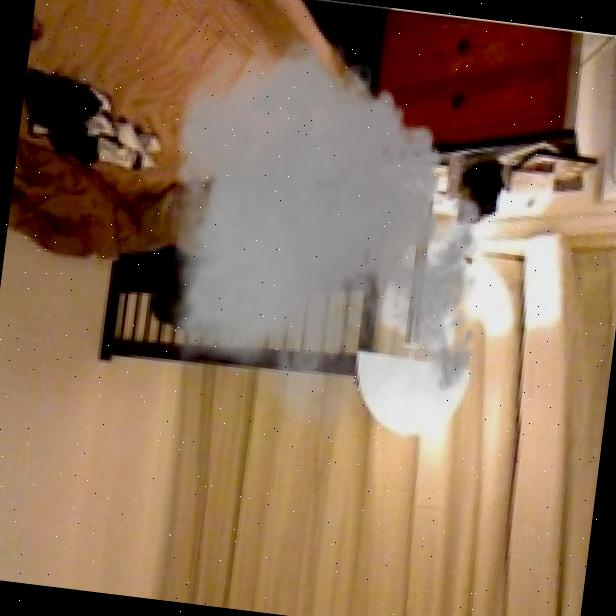smoke: (130, 9, 524, 463)
